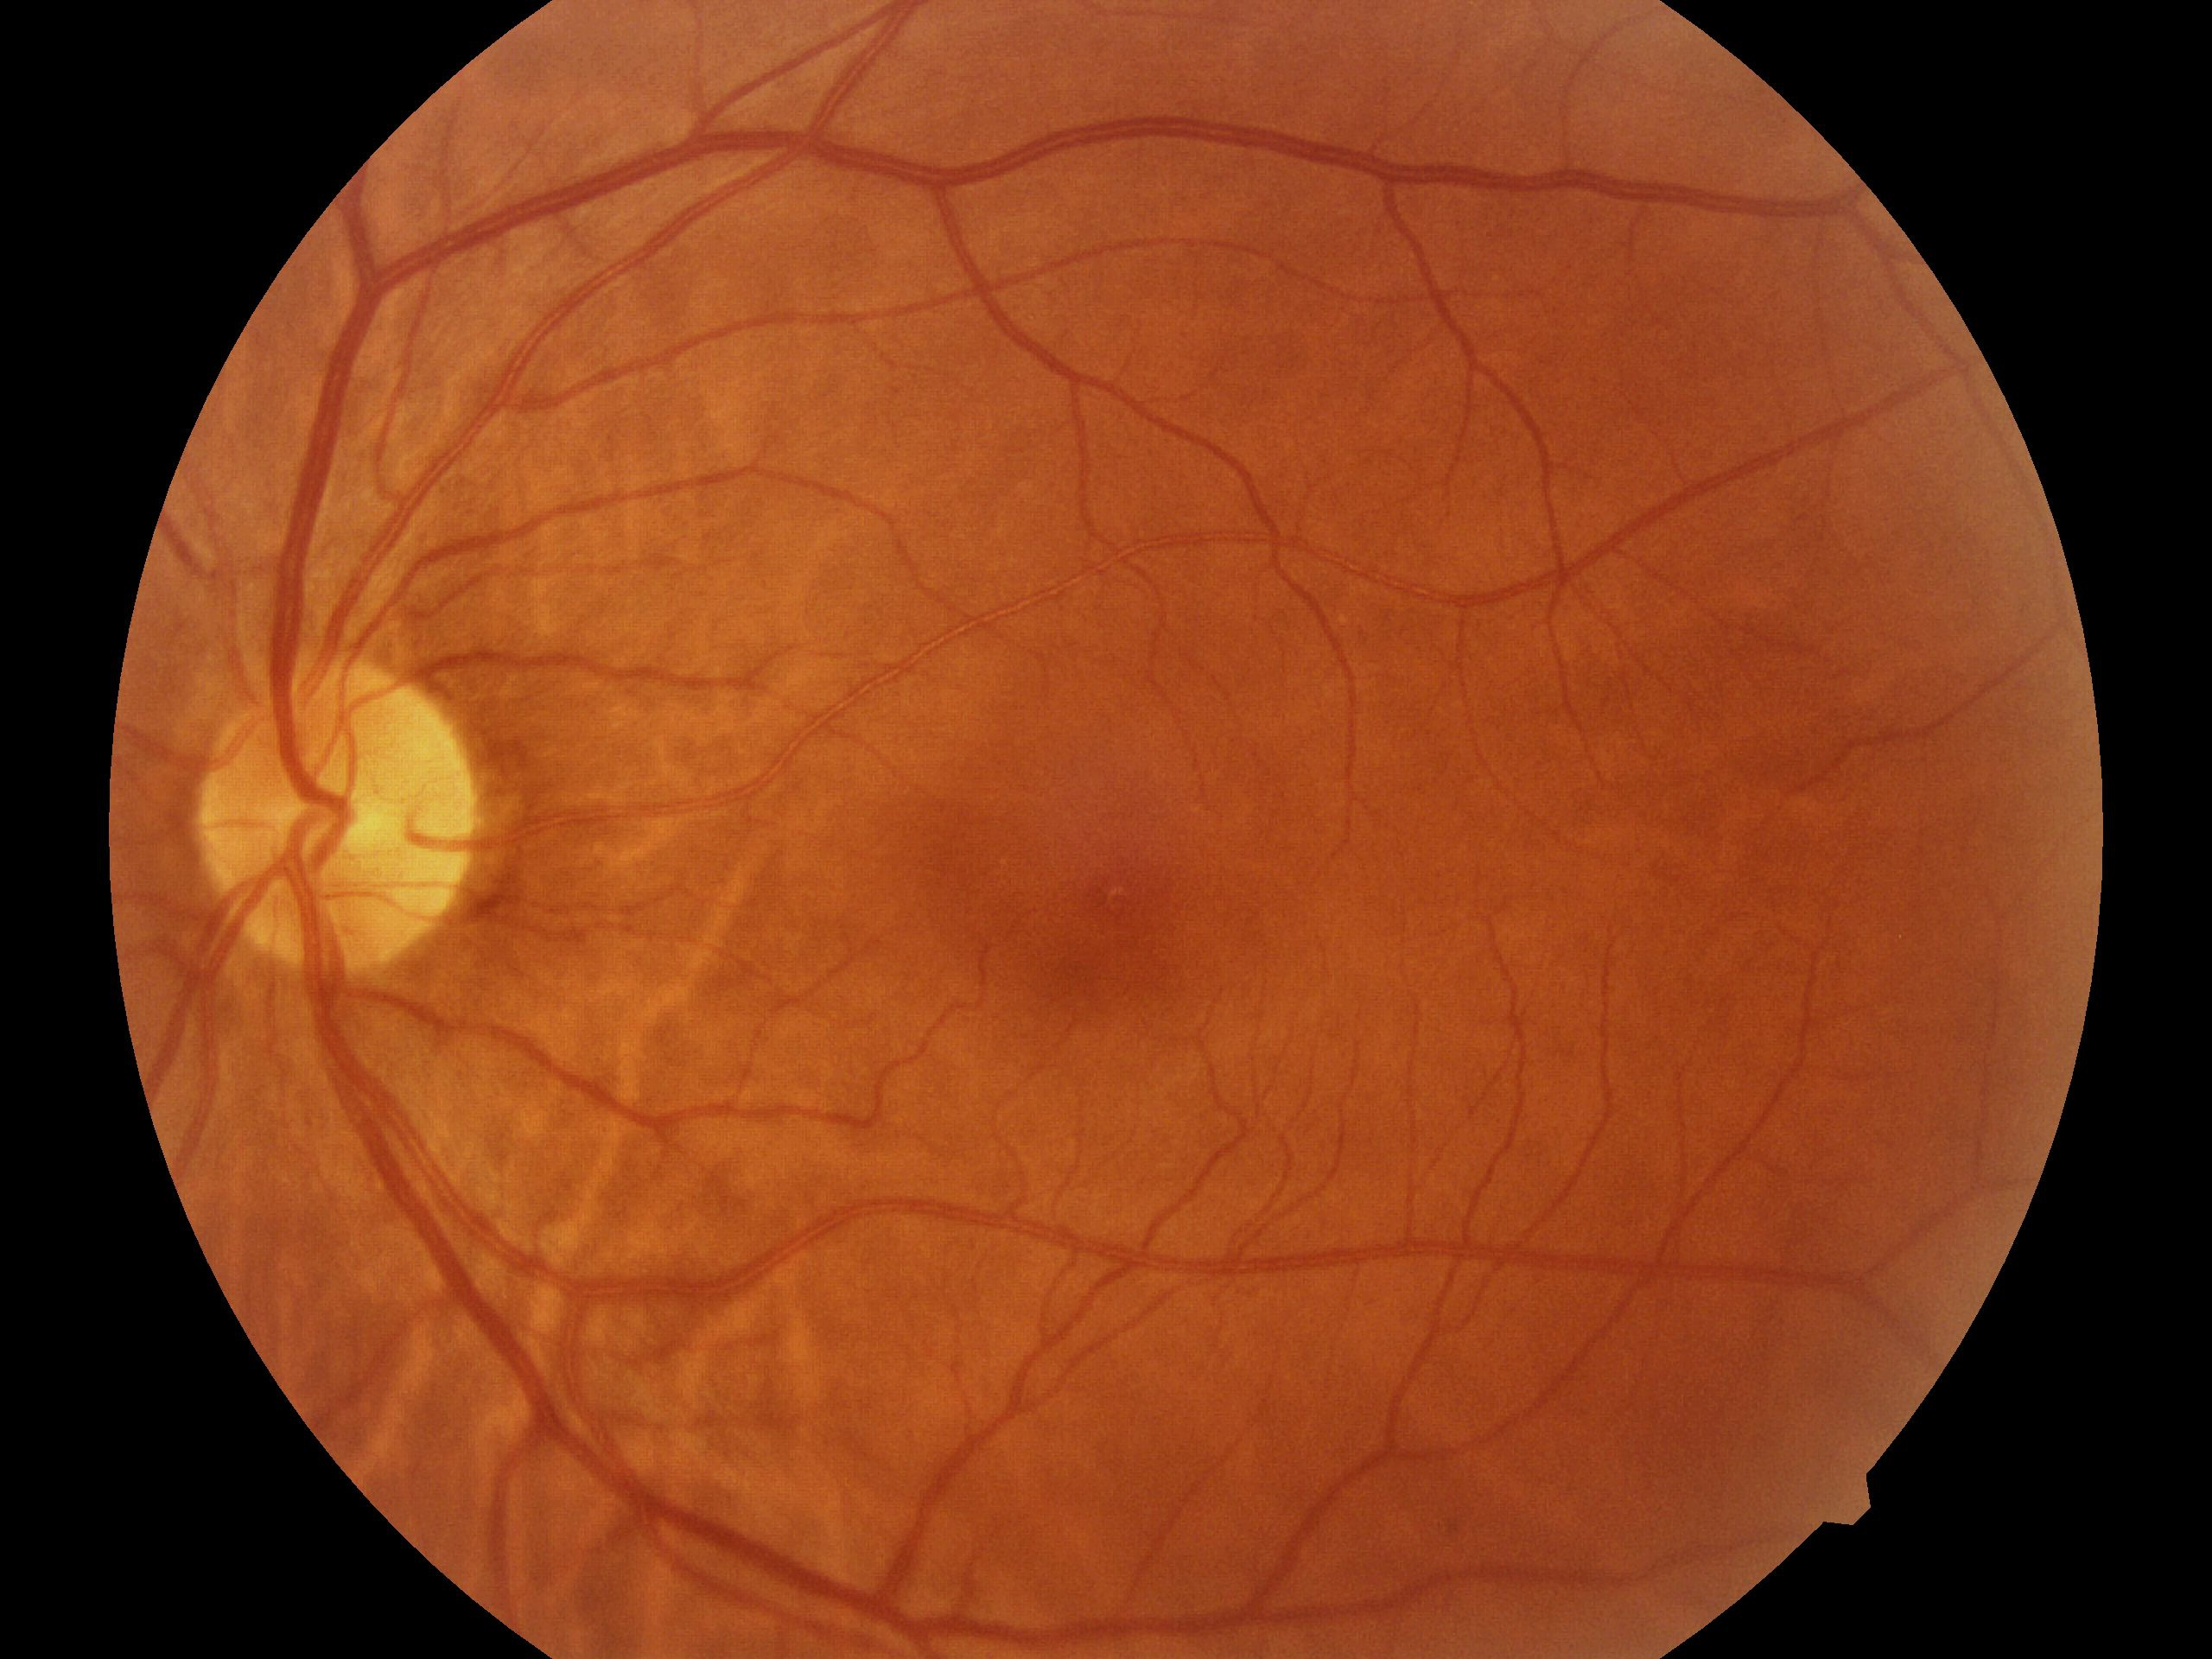Hemorrhages: (960, 769, 1212, 1049)
Optic-Disc: (178, 638, 503, 988)
Venules: (354, 1054, 651, 1481), (622, 87, 1501, 204), (277, 220, 385, 579)
